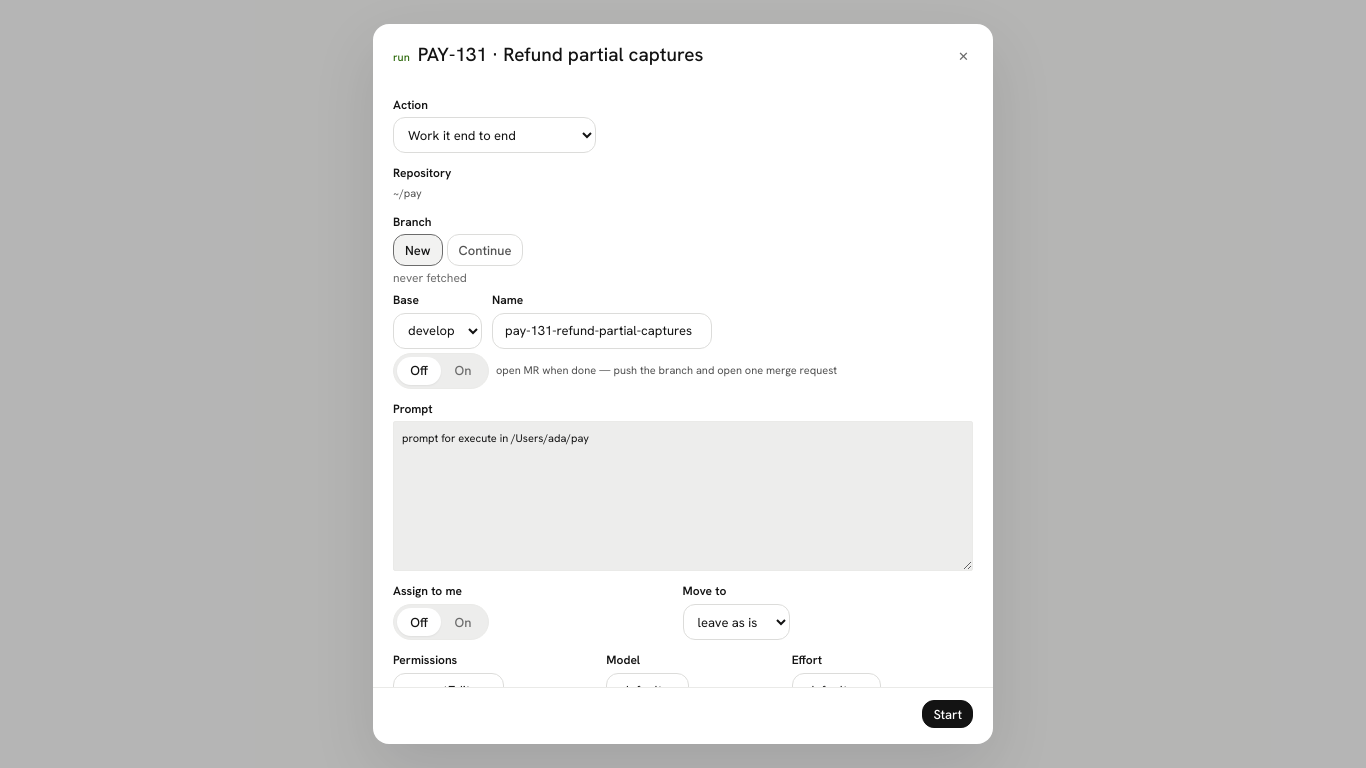
Scenario: JiraLaunchSheet — Start › a failed transition after a landed assign ("the assign stands") counts the same
This screenshot has width=1366, height=768.
Expected: the text box labelled "Prompt" is not empty, x1=393 y1=421 x2=973 y2=571
Step 1. Click the button "Start" → coordinates (948, 714), box x1=922 y1=700 x2=973 y2=728
(page scrolled)
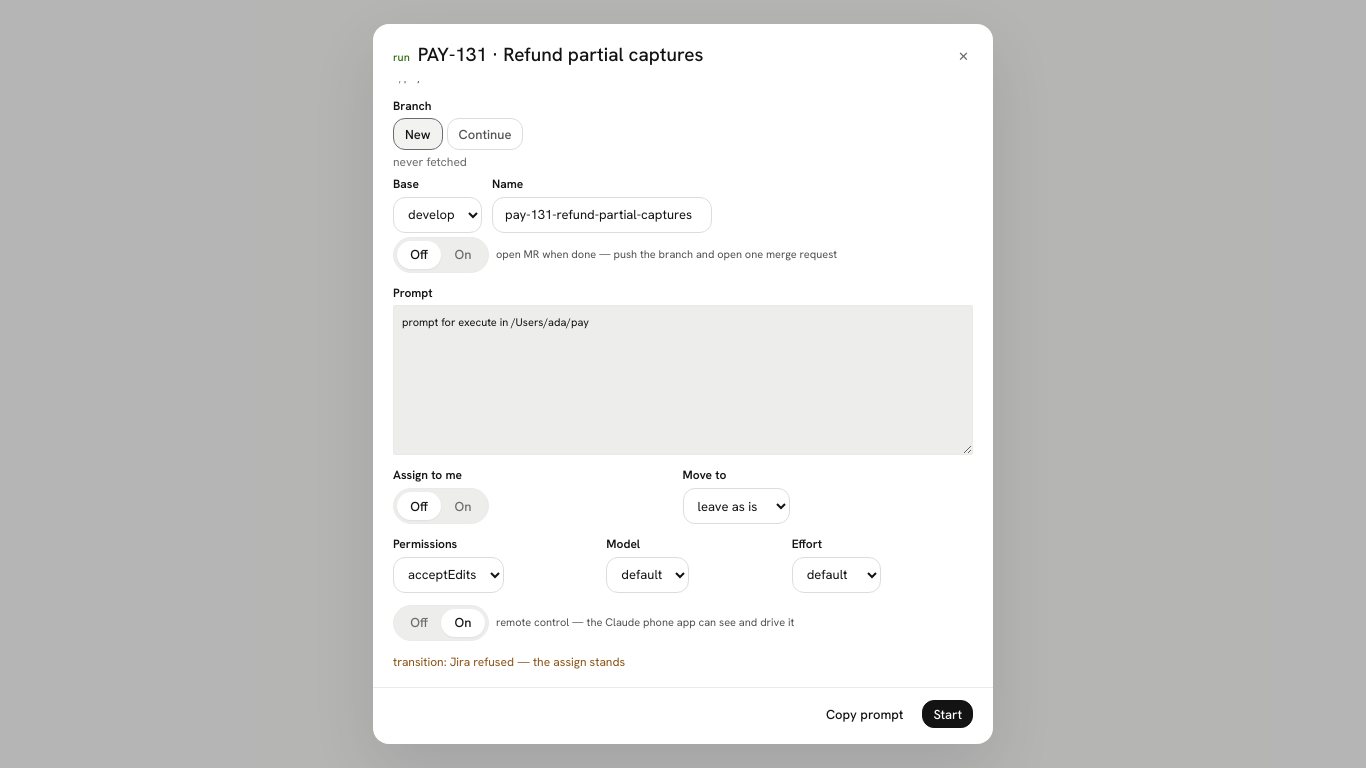
Result: the message "transition: Jira refused — the assign stands" is shown at x1=393 y1=654 x2=625 y2=670
